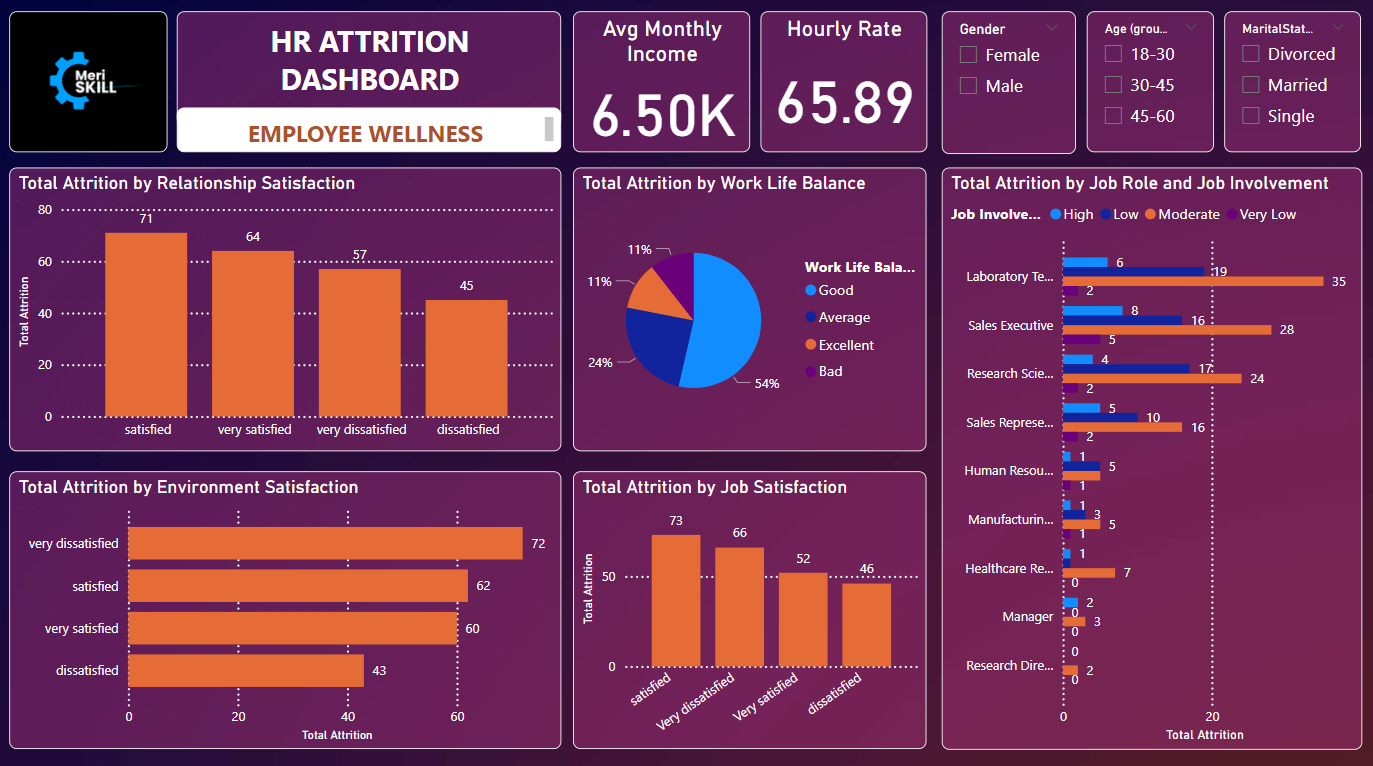

This screenshot's page, from the dashboard's own definition file:
{"tool":"powerbi","page":{"name":"Page 3","canvas":[1280,720],"ordinal":2},"visuals":[{"type":"image","box":[10,15,147.5,131.2],"z":1000},{"type":"textbox","box":[166.2,15,357.5,107.5],"z":2000},{"type":"textbox","box":[166.2,105,357.5,41.2],"z":3000},{"type":"columnChart","fields":{"Y":["Sum(Hr.Attrition Val)"],"Category":["Hr.RelationshipSatisfaction"]},"box":[10,160,513.8,263.8],"z":9000},{"type":"pieChart","fields":{"Y":["Sum(Hr.Attrition Val)"],"Category":["Hr.WorkLifeBalance"]},"box":[535,160,328.8,263.8],"z":10000},{"type":"clusteredBarChart","fields":{"Y":["Sum(Hr.Attrition Val)"],"Series":["Hr.JobInvolvement"],"Category":["Hr.JobRole"]},"box":[877.5,160,391.2,541.2],"z":11000},{"type":"columnChart","fields":{"Category":["Hr.JobSatisfaction"],"Y":["Sum(Hr.Attrition Val)"]},"box":[535,442.5,328.8,258.8],"z":12000},{"type":"barChart","fields":{"Y":["Sum(Hr.Attrition Val)"],"Category":["Hr.EnvironmentSatisfaction"]},"box":[10,442.5,513.8,258.8],"z":13000},{"type":"card","title":"Hourly Rate","fields":{"Values":["Avg(Hr.HourlyRate)"]},"box":[708.8,15,155,131.2],"z":14000},{"type":"card","title":"Avg Monthly Income","fields":{"Values":["Avg(Hr.MonthlyIncome)"]},"box":[535,15,165,131.2],"z":15000},{"type":"slicer","fields":{"Values":["Hr.Gender"]},"box":[877.5,15,125,132.5],"z":16000},{"type":"slicer","fields":{"Values":["Hr.Age (groups)"]},"box":[1012.5,15,118.8,131.2],"z":17000},{"type":"slicer","fields":{"Values":["Hr.MaritalStatus"]},"box":[1141.2,15,127.5,131.2],"z":18000}]}

Visuals, with their boxes in screenshot pixels (x1, y1, x2, y2), scaled from the page's 1280x720 canvas onto the 1373x766 screenshot:
image: bbox(11, 16, 169, 156)
textbox: bbox(178, 16, 562, 130)
textbox: bbox(178, 112, 562, 156)
columnChart - Sum(Hr.Attrition Val) x Hr.RelationshipSatisfaction: bbox(11, 170, 562, 451)
pieChart - Sum(Hr.Attrition Val) x Hr.WorkLifeBalance: bbox(574, 170, 927, 451)
clusteredBarChart - Sum(Hr.Attrition Val) x Hr.JobInvolvement: bbox(941, 170, 1361, 746)
columnChart - Hr.JobSatisfaction x Sum(Hr.Attrition Val): bbox(574, 471, 927, 746)
barChart - Sum(Hr.Attrition Val) x Hr.EnvironmentSatisfaction: bbox(11, 471, 562, 746)
"Hourly Rate" card: bbox(760, 16, 927, 156)
"Avg Monthly Income" card: bbox(574, 16, 751, 156)
slicer - Hr.Gender: bbox(941, 16, 1075, 157)
slicer - Hr.Age (groups): bbox(1086, 16, 1213, 156)
slicer - Hr.MaritalStatus: bbox(1224, 16, 1361, 156)
